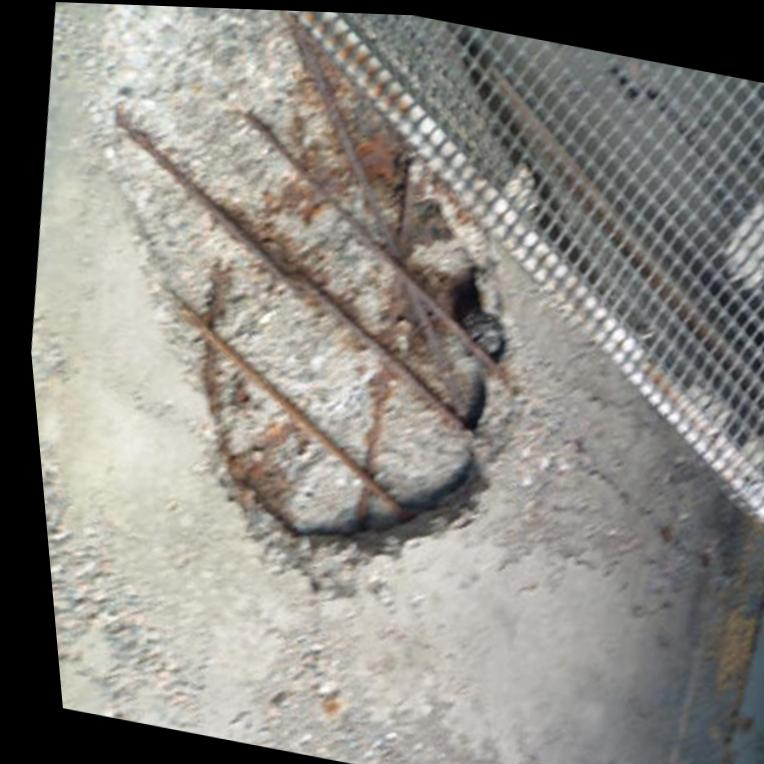damage: (86, 3, 525, 607)
